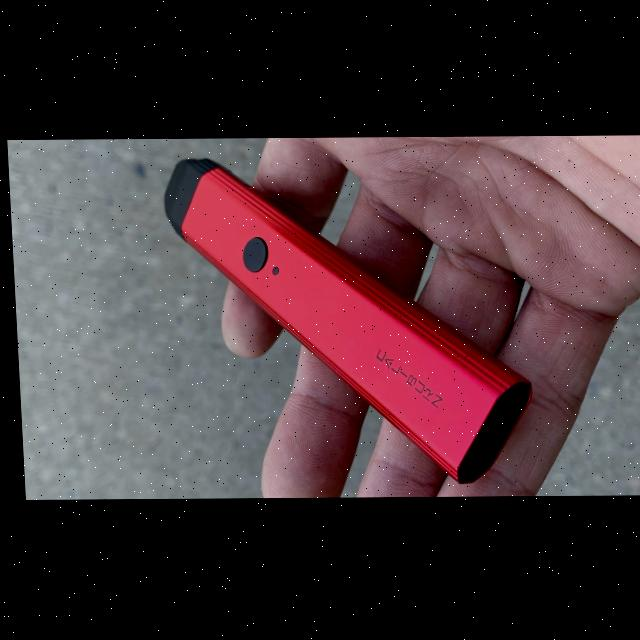vape: (158, 158, 532, 487)
